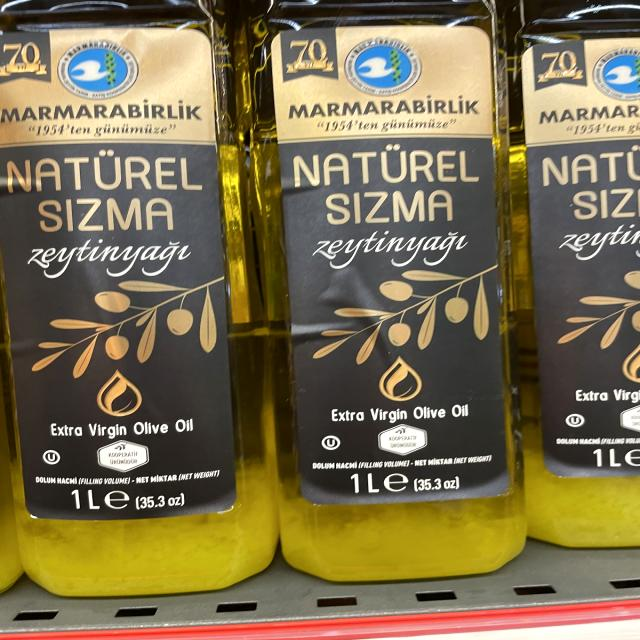olive oil: (232, 1, 523, 574), (0, 2, 261, 588)
